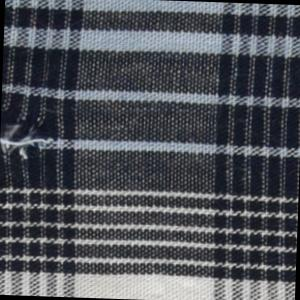Damage: (1, 104, 58, 176)
